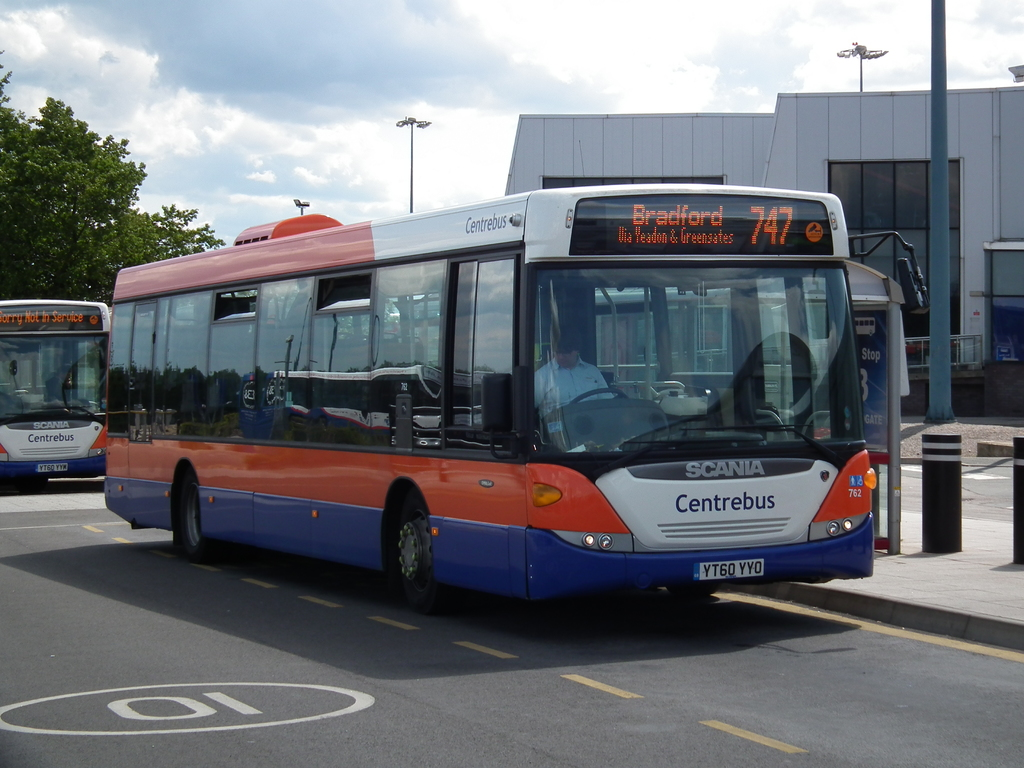Bus: (104, 183, 874, 614), (0, 299, 110, 491)
